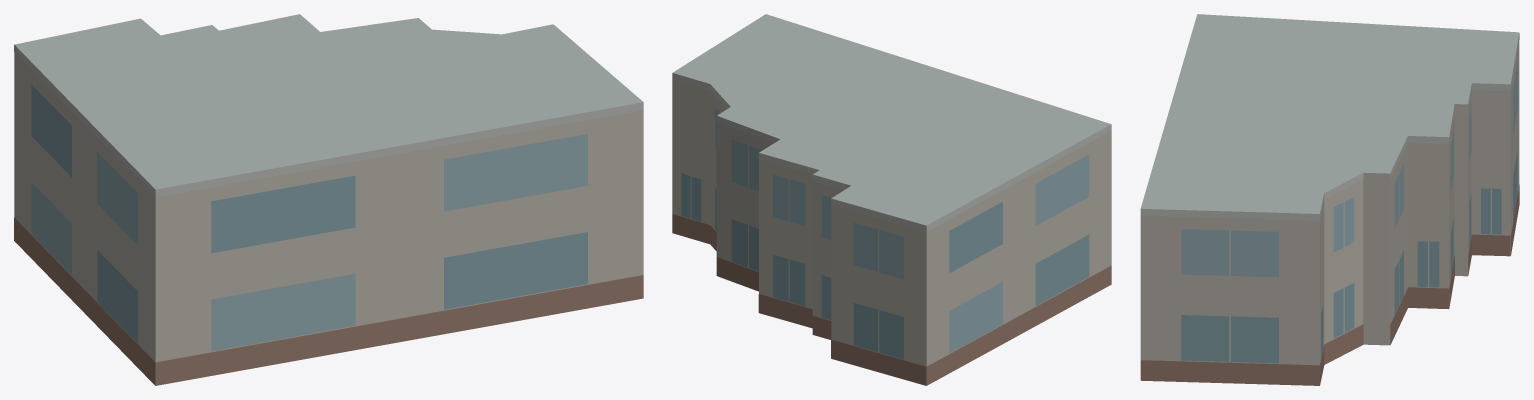
File: survey-upis-32799363.glb
3 renders of one model, left to right at view 1: azimuth 30°, elevation 25°; view 2: azimuth 150°, elevation 25°; view 3: azimuth 270°, elevation 25°, orthographic. The views are drawn at different scales.
Visible parts, largest first — view 1: survey-upis-32799363.tmp; view 2: survey-upis-32799363.tmp; view 3: survey-upis-32799363.tmp.
Boxes of the visible parts, x1,y1,x2,y2 form: survey-upis-32799363.tmp: (14,14,643,385); survey-upis-32799363.tmp: (672,14,1111,385); survey-upis-32799363.tmp: (1140,14,1519,385).
Bounding box in the file's own units: 15.23 × 6.1 × 12.2.
